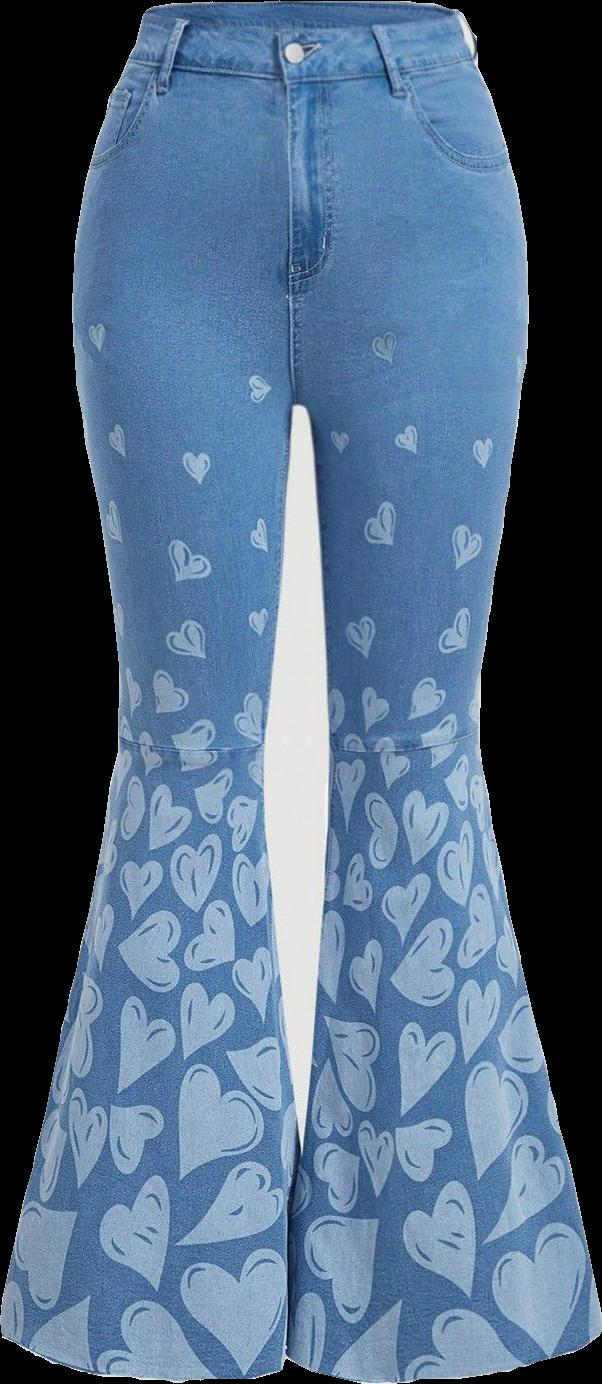Hemline: (277, 1321, 601, 1382), (0, 1316, 294, 1383)
Pantleg: (278, 0, 601, 1383), (0, 4, 302, 1380)
Waistline: (122, 5, 479, 89)
